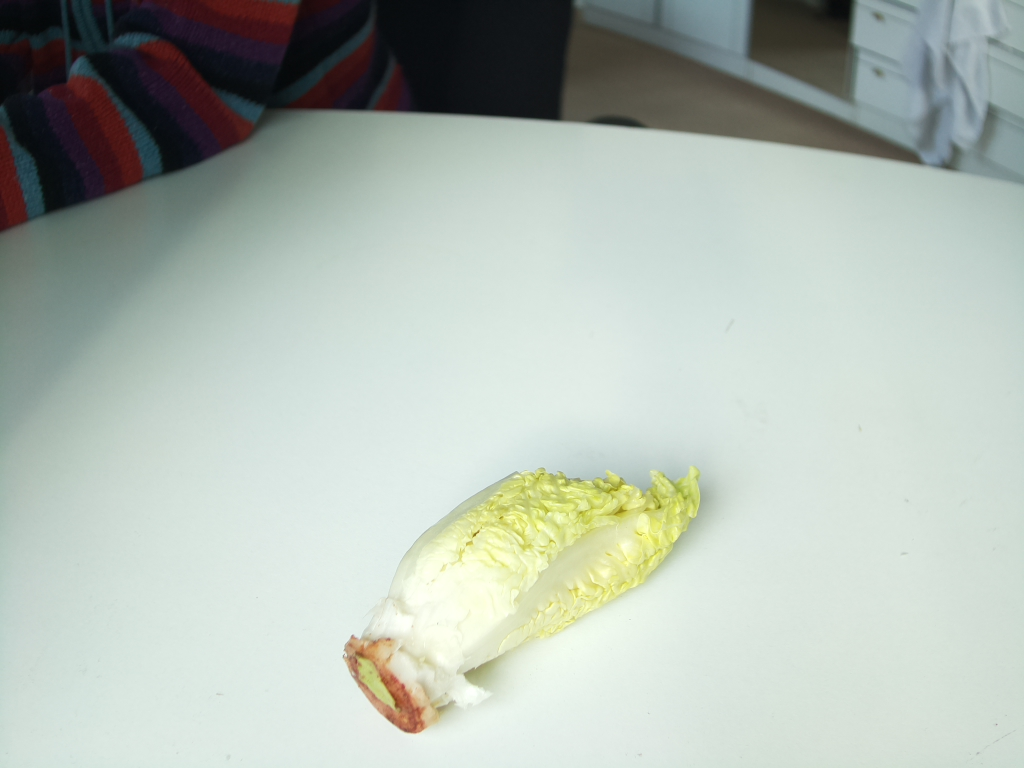salad: (345, 461, 705, 733)
